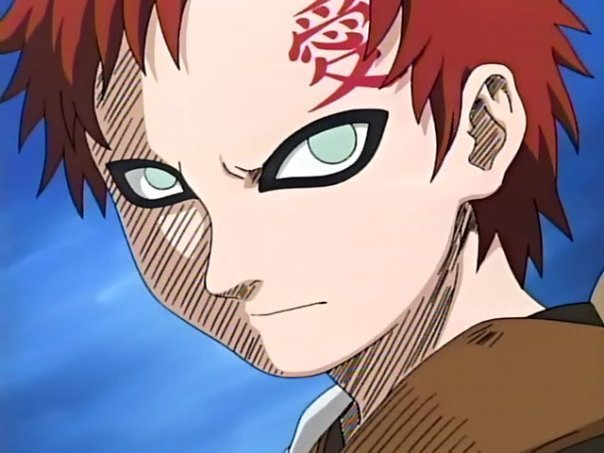gaara: (72, 3, 529, 381)
